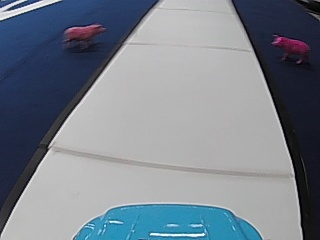pig: (61, 19, 105, 51), (269, 32, 310, 64)
